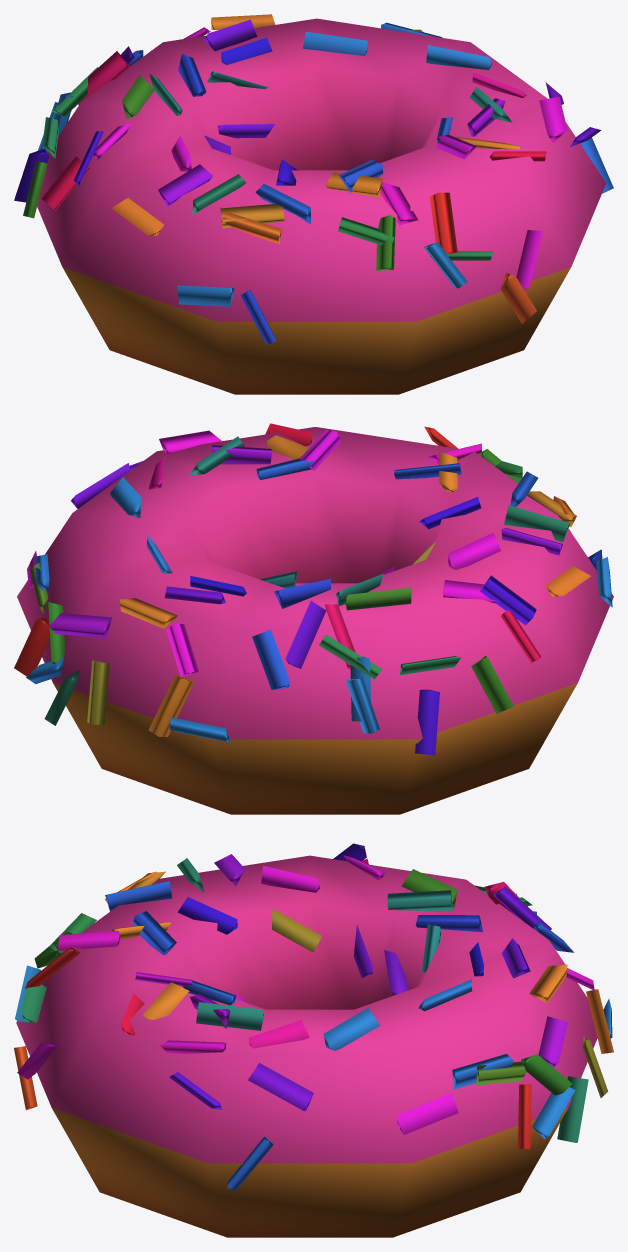
File: SprinklesDonut_Regular.fbx
3 views of the same model, one above another, from view 1: azimuth 30°, elevation 25°; view 2: azimuth 150°, elevation 25°; view 3: azimuth 270°, elevation 25° (orthographic). The views are drawn at different scales.
Visible parts, largest first — view 1: SprinklesDonut_Regular; view 2: SprinklesDonut_Regular; view 3: SprinklesDonut_Regular.
Boxes of the visible parts, bbox=[...] form: SprinklesDonut_Regular: bbox=[14, 14, 613, 394]; SprinklesDonut_Regular: bbox=[14, 423, 613, 814]; SprinklesDonut_Regular: bbox=[14, 843, 613, 1237].
Size of the model in its own units: 36.58 by 14.06 by 36.62.
